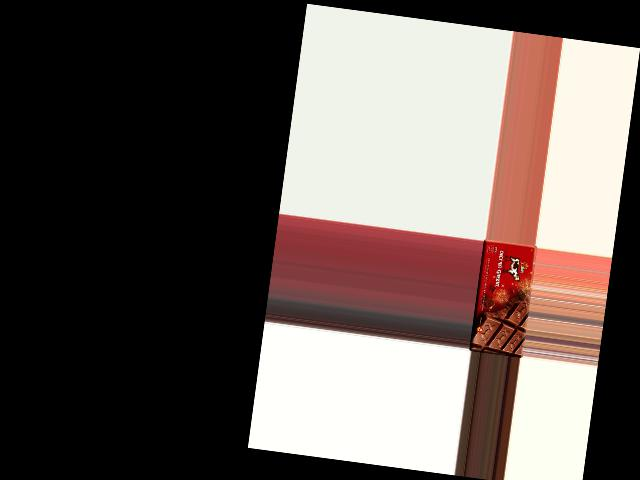chocolate: (469, 238, 536, 357)
